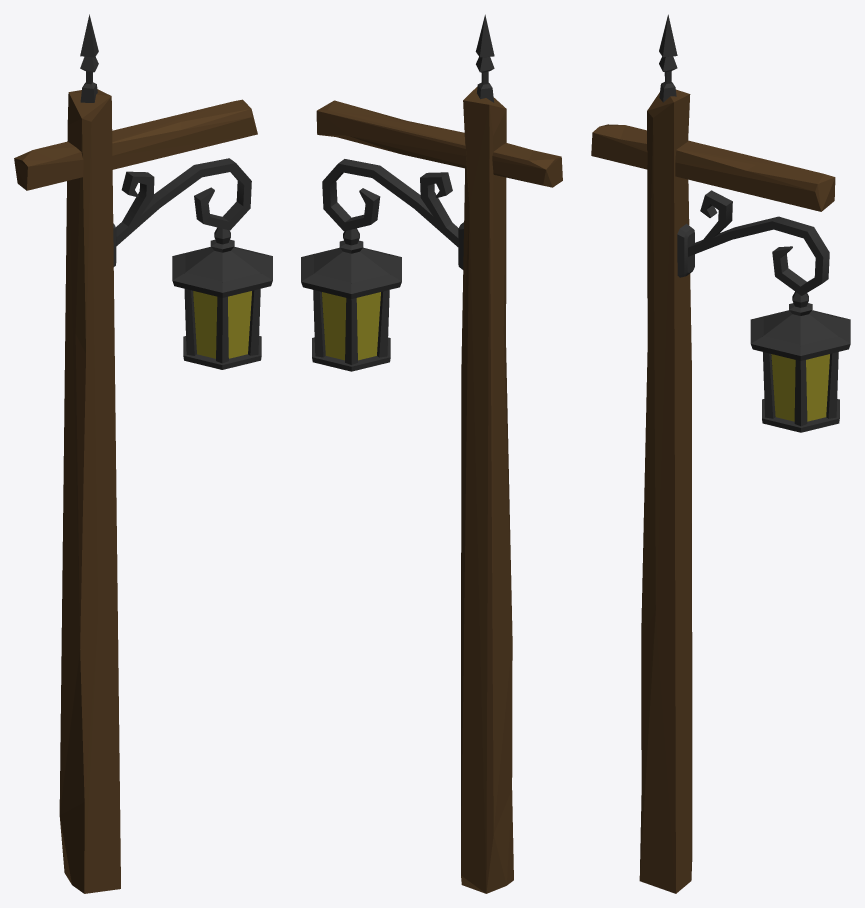
Rendered from SM_lamp_03.fbx.
The picture shows the model from 3 angles, left to right: view 1: azimuth 30°, elevation 25°; view 2: azimuth 150°, elevation 25°; view 3: azimuth 330°, elevation 25°; orthographic projection.
Parts seen in each view (by area): view 1: Object32407; view 2: Object32407; view 3: Object32407.
Part boxes in pixels (x1,y1,x2,y2): Object32407: (14,14,272,893); Object32407: (301,14,562,893); Object32407: (591,14,850,893).
Size of the model in its own units: 59.22 by 194 by 20.34.
